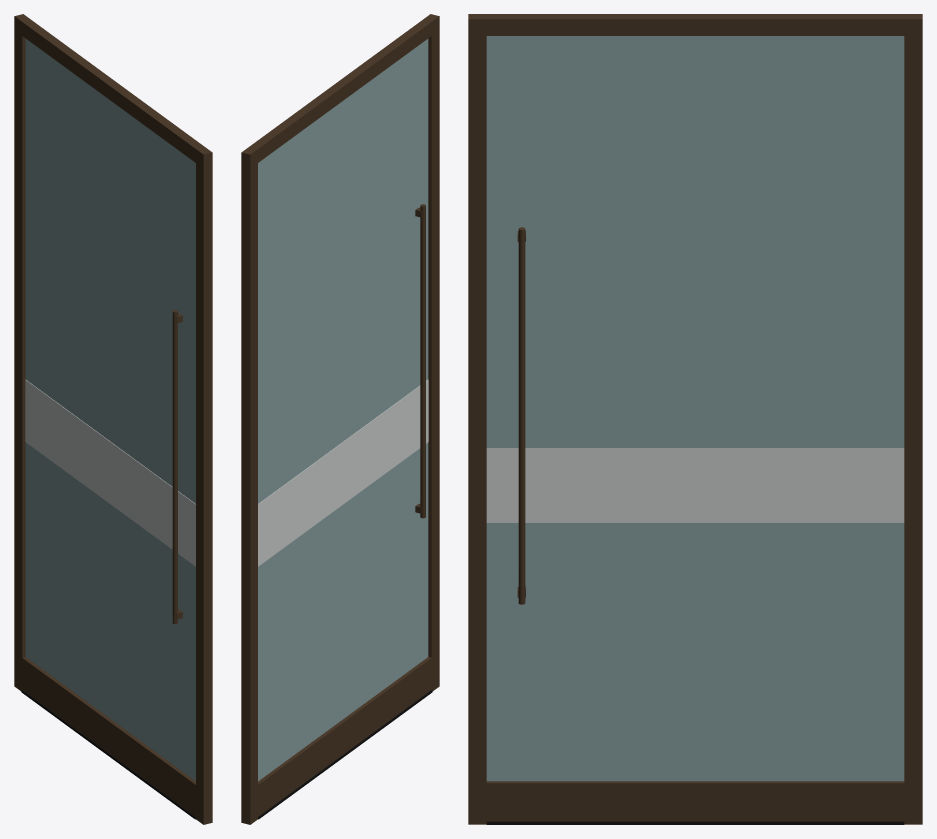
The model's file is SM_80s_GlassDoor2.glb.
The picture shows the model from 3 angles, left to right: view 1: azimuth 30°, elevation 25°; view 2: azimuth 150°, elevation 25°; view 3: azimuth 270°, elevation 25°; orthographic projection. The views are drawn at different scales.
Visible parts, largest first — view 1: SM_80s_GlassDoor; view 2: SM_80s_GlassDoor; view 3: SM_80s_GlassDoor.
Boxes of the visible parts, x1,y1,x2,y2 form: SM_80s_GlassDoor: (14, 14, 212, 824); SM_80s_GlassDoor: (241, 14, 439, 824); SM_80s_GlassDoor: (468, 14, 922, 824).
Size of the model in its own units: 0.172 by 4.3 by 2.2.
